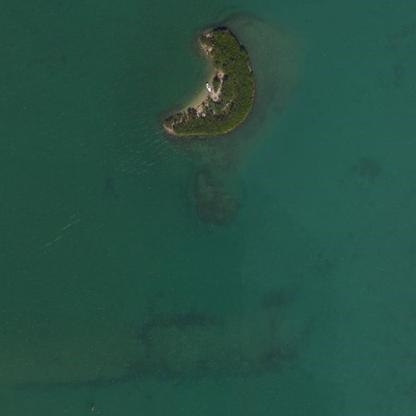ship: (203, 78, 213, 93)
